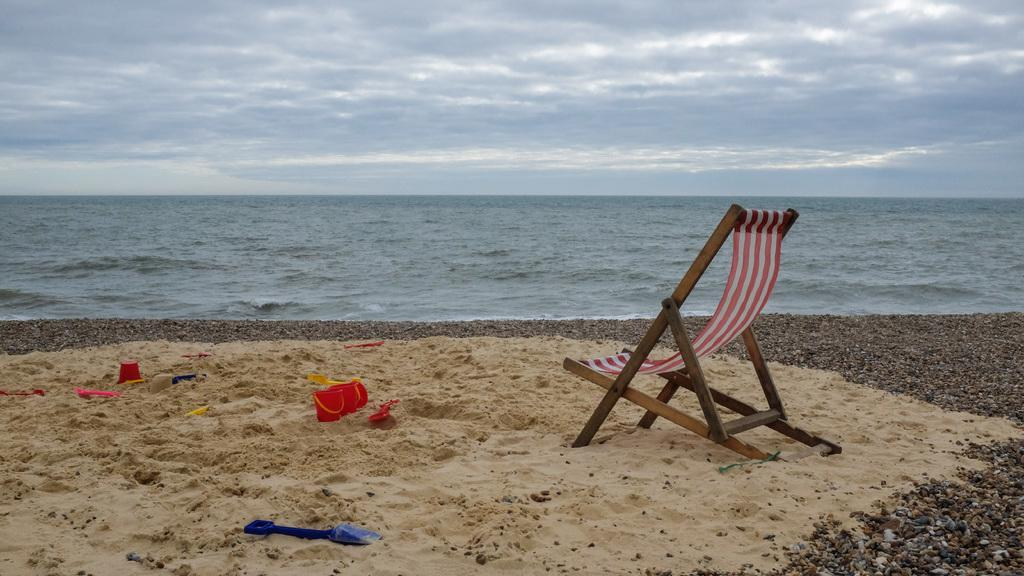Chair: (574, 191, 815, 449)
